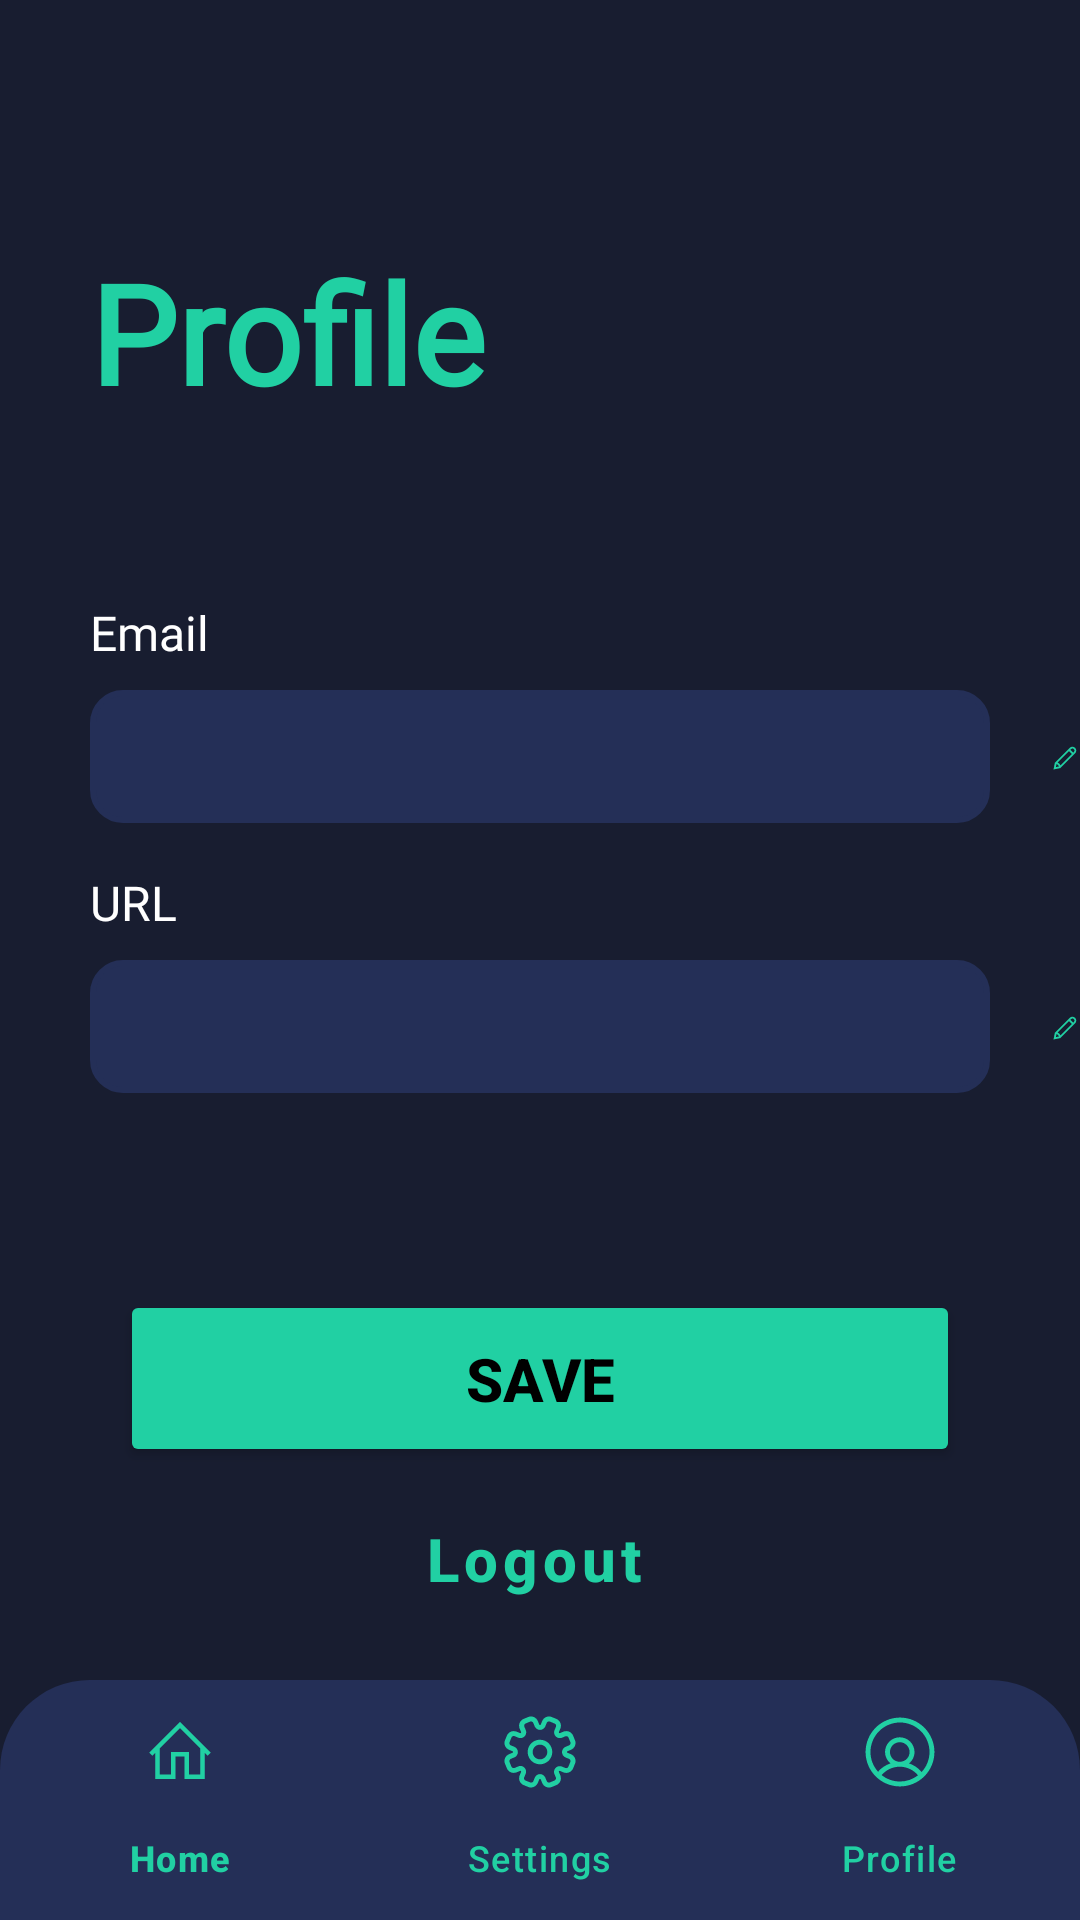

Screen size 1080 × 1920. Icon name, then its box in pixels as rect(x1, y1, x2, y2):
edit: rect(1053, 746, 1077, 770), rect(1053, 1016, 1077, 1040)
